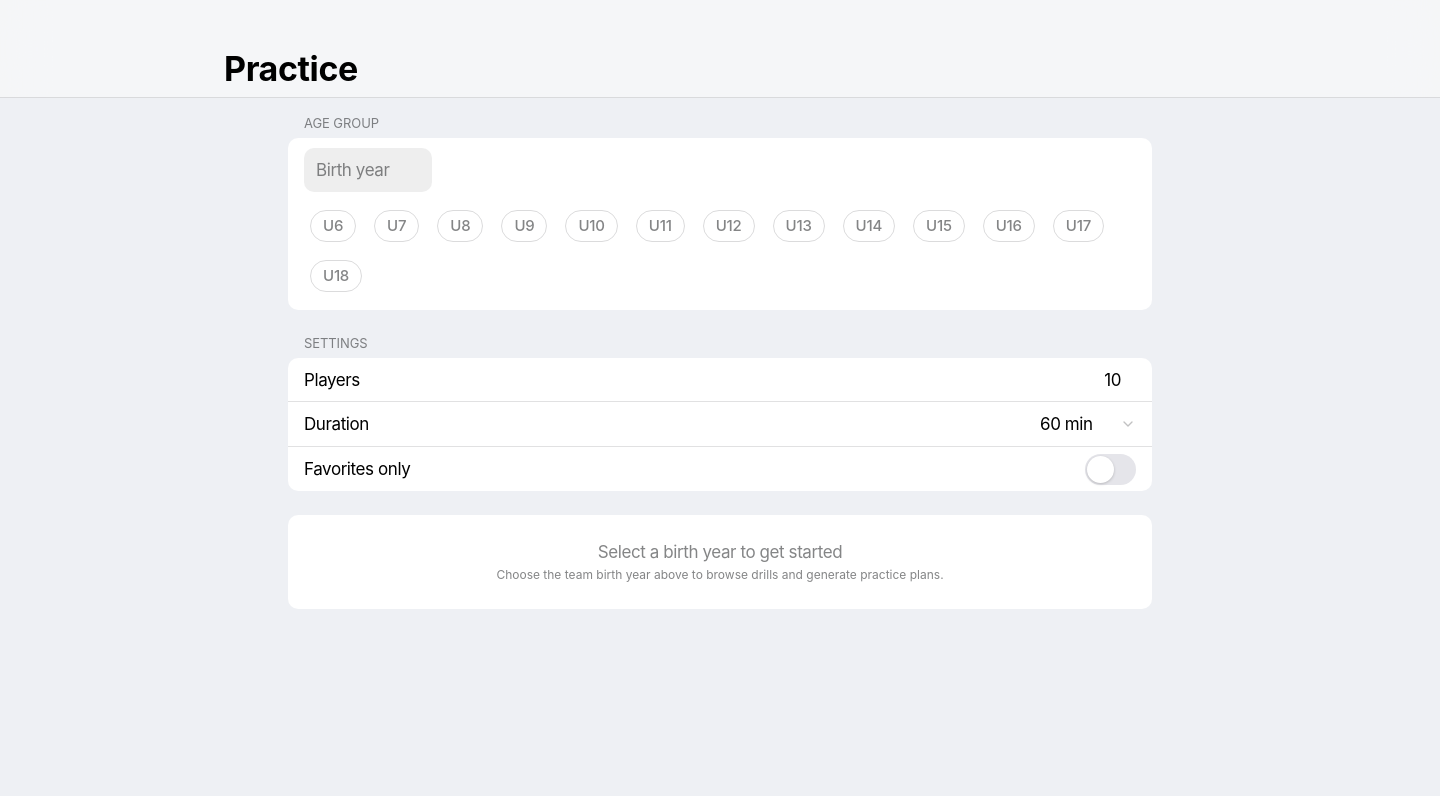
Test: Practice page › shows browse drills when age is set but no category selected
Click the button "U12": (729, 226) [697,204,761,248]
(page scrolled)
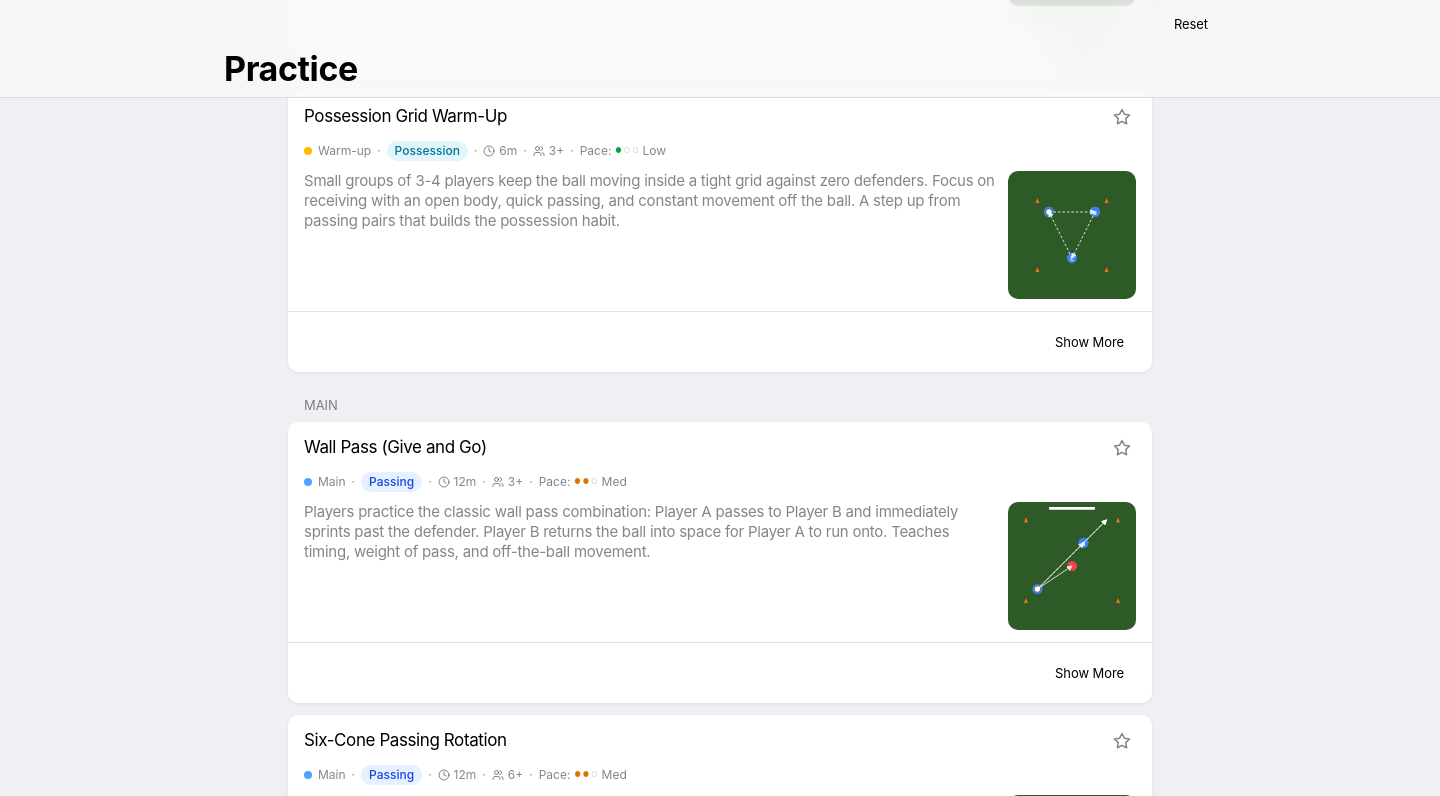
Now the heading "Main" is shown, box [304,397,338,413]
